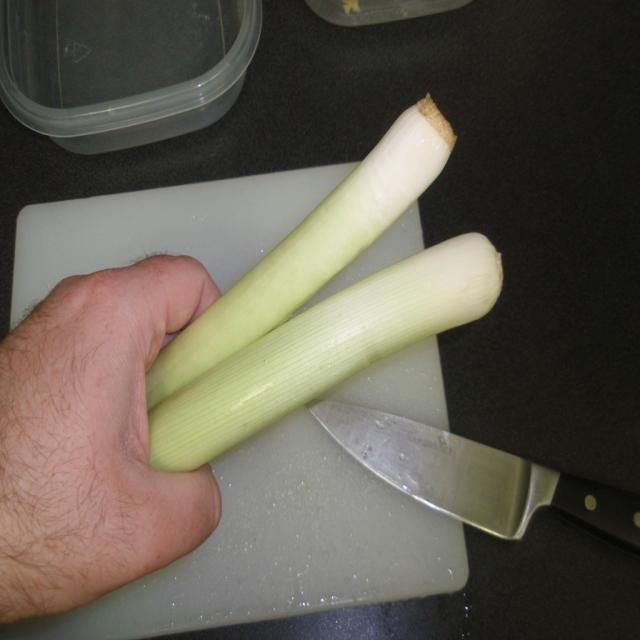Knife: (309, 401, 640, 548)
